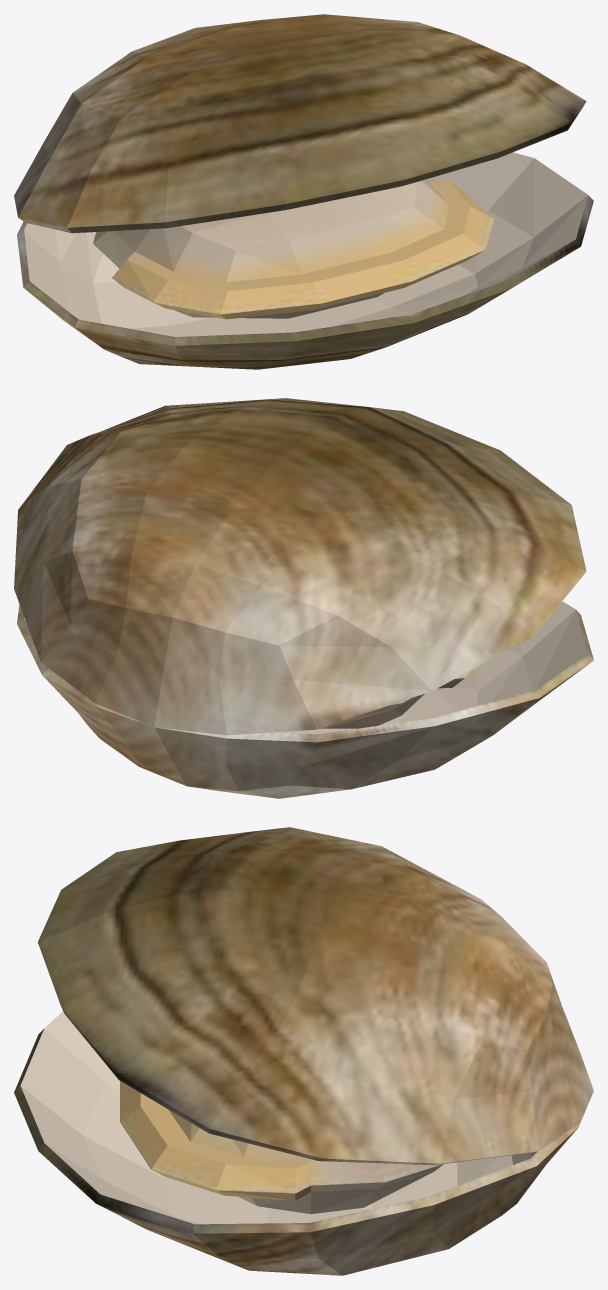
File: mk_pearl.glb
3 renders of one model, top to bottom at view 1: azimuth 30°, elevation 25°; view 2: azimuth 150°, elevation 25°; view 3: azimuth 270°, elevation 25°, orthographic. The views are drawn at different scales.
Parts seen in each view (by area): view 1: Node; view 2: Node; view 3: Node.
Part boxes in pixels (x1=…): Node: x1=14, y1=14, x2=593, y2=369; Node: x1=14, y1=398, x2=593, y2=798; Node: x1=14, y1=827, x2=593, y2=1275.
Bounding box in the file's own units: 1.11 × 0.6029 × 0.9629.
2 materials, 1 textured.
